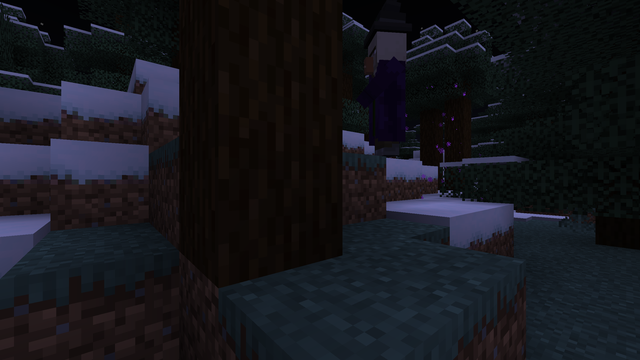sorcieres: (359, 19, 412, 157)
